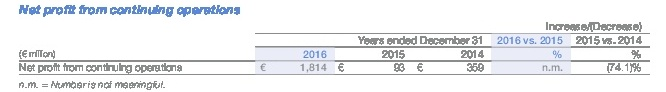table: (0, 0, 666, 92)
